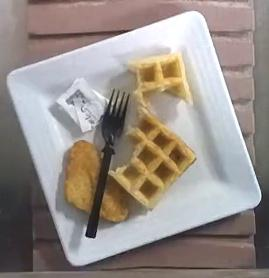unknown: (65, 140, 100, 212), (100, 176, 129, 222)
waffle: (109, 53, 196, 209)
